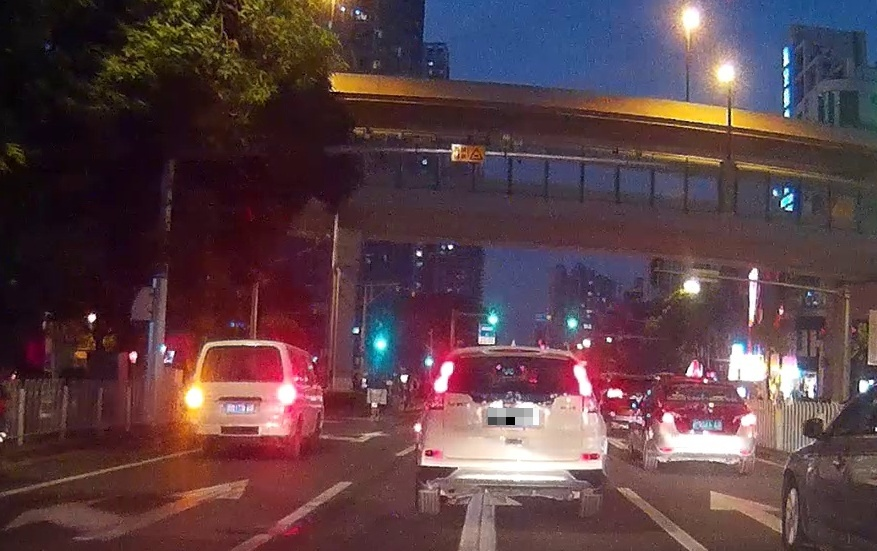L_light: (430, 362, 454, 409), (186, 382, 202, 414), (661, 411, 675, 425)
R_light: (572, 363, 598, 413), (280, 383, 295, 413), (739, 413, 756, 426)
T_light: (502, 354, 526, 364), (693, 384, 714, 392), (236, 345, 254, 353)
night-left: (186, 340, 297, 456)
night-no: (415, 345, 607, 517), (660, 378, 757, 473)
plate_1: (488, 408, 539, 425)
